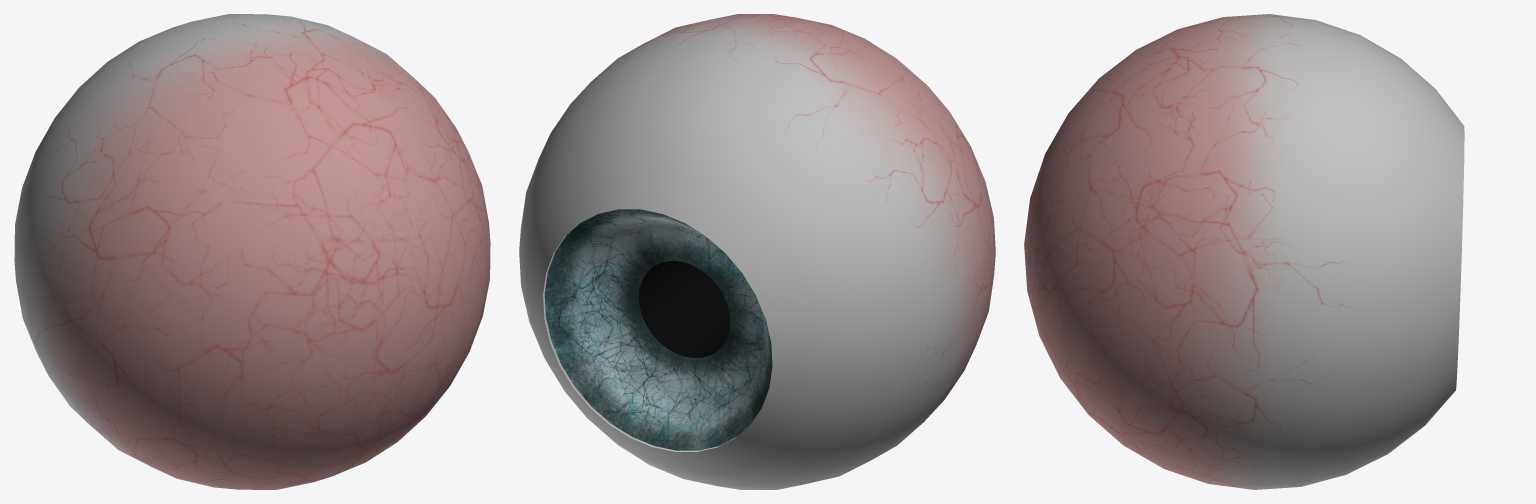
The picture shows the model from 3 angles, left to right: view 1: azimuth 30°, elevation 25°; view 2: azimuth 150°, elevation 25°; view 3: azimuth 270°, elevation 25°; orthographic projection.
Visible parts, largest first — view 1: OJO G.001_0; view 2: OJO G.001_0; view 3: OJO G.001_0.
Boxes of the visible parts, <box> form: OJO G.001_0: <box>14,14,490,489</box>; OJO G.001_0: <box>519,14,995,489</box>; OJO G.001_0: <box>1024,14,1464,489</box>.
Bounding box in the file's own units: 2 × 1.99 × 2.09.
4 materials, 4 textured.
